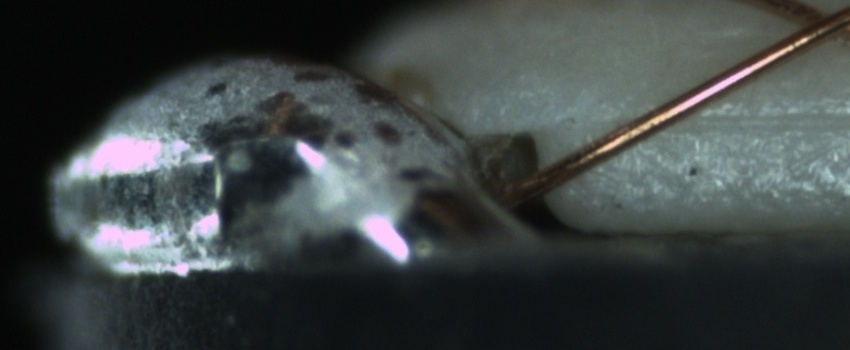CL: (776, 1, 849, 48)
DL: (674, 88, 845, 148)
